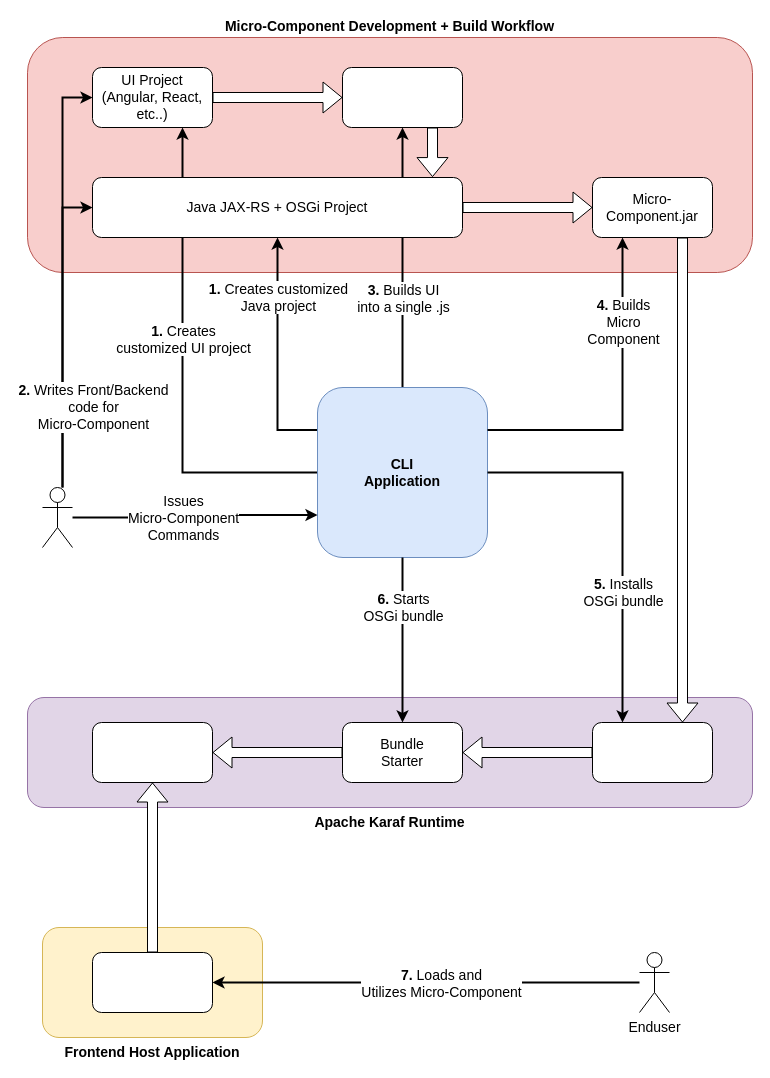
The diagram is 770 pixels wide and 1078 high, and some of its shapes have lost their labels. Each missing label, with the centre of its shape:
"Developer(s)" belongs at (x=57, y=517).
"Generated view.js" belongs at (x=402, y=97).
"Installer" belongs at (x=652, y=752).
"Micro-Component Dynamic Loader" belongs at (x=152, y=982).
"Running Micro-Component Backend" belongs at (x=152, y=752).
